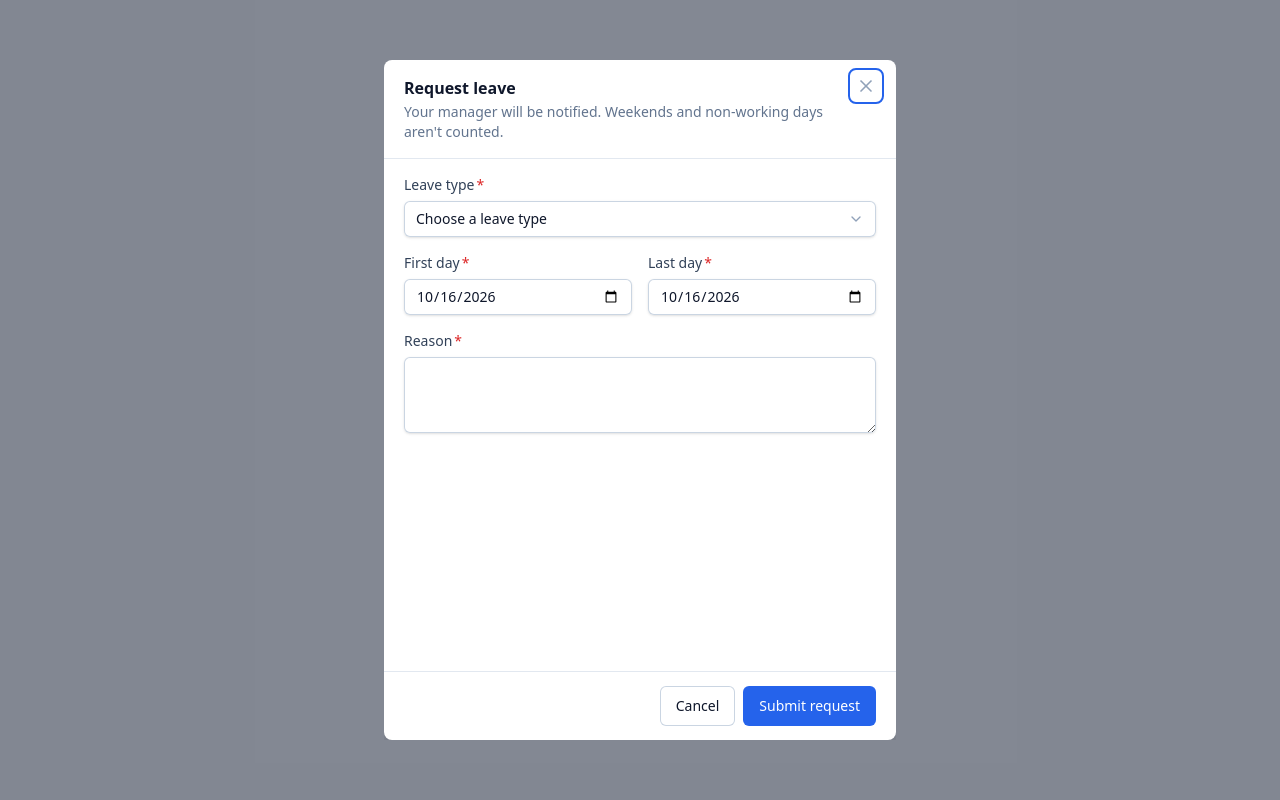
keeps what was typed and shows the server's field error when the API refuses
Step 1. Select "Annual Leave" in the dropdown labelled "Leave type*" → (640, 219), box [404, 201, 876, 237]
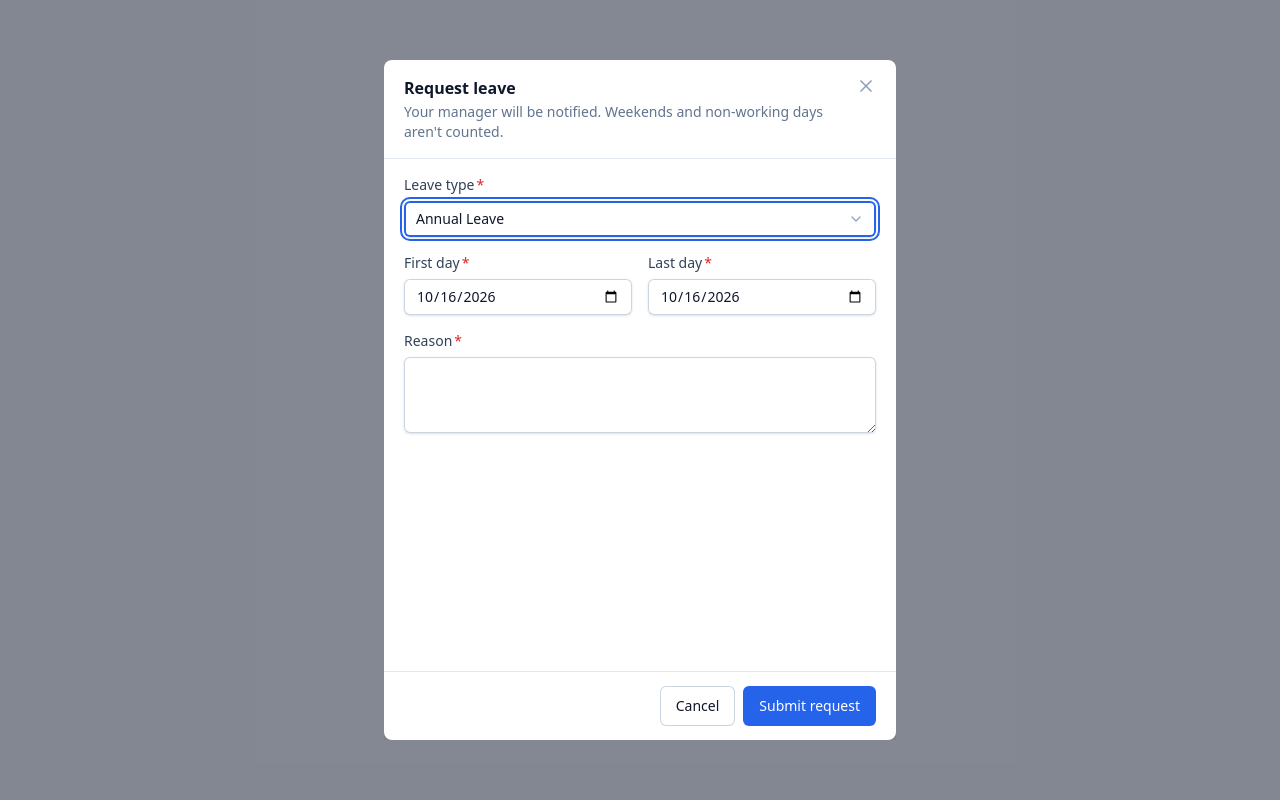
Step 2. Type "Holiday" into the text box labelled "Reason*" → (640, 395), box [404, 357, 876, 433]
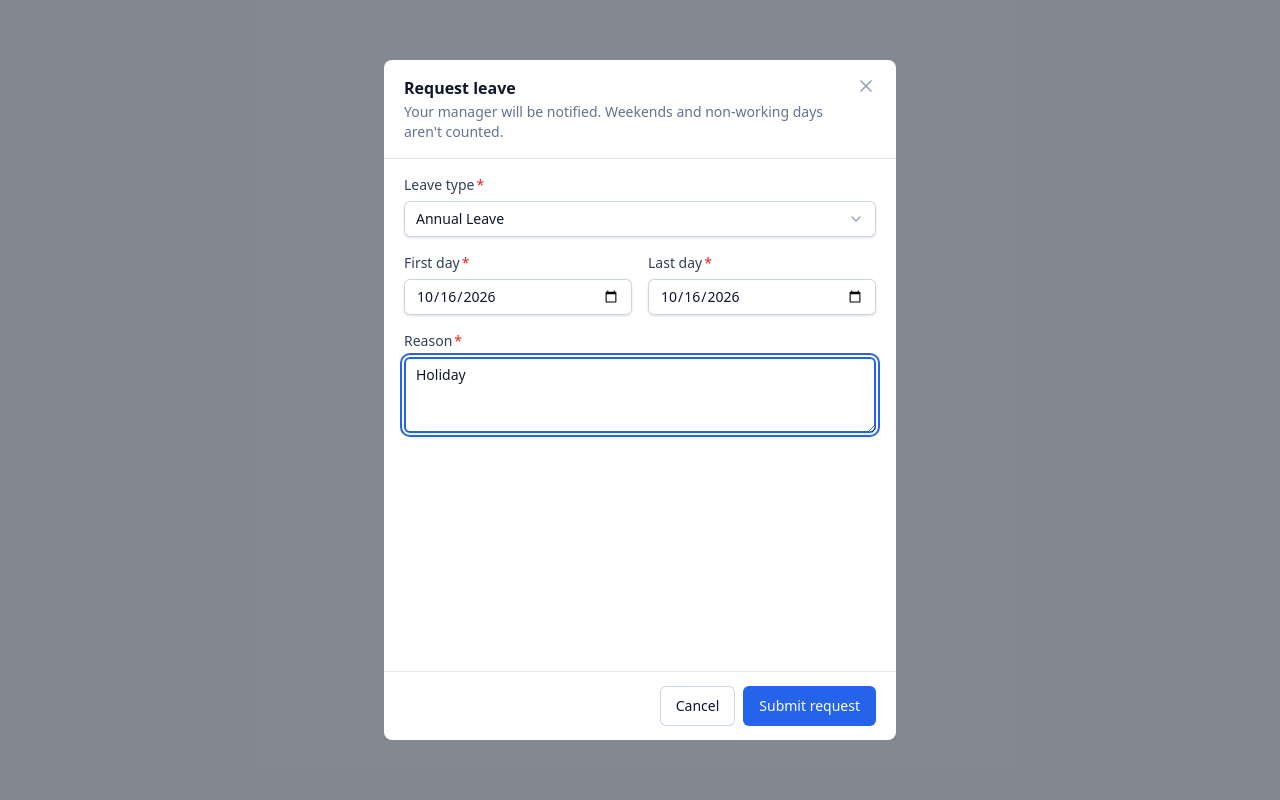
Step 3. Click the button "Submit request" → (810, 706), box [743, 686, 876, 726]
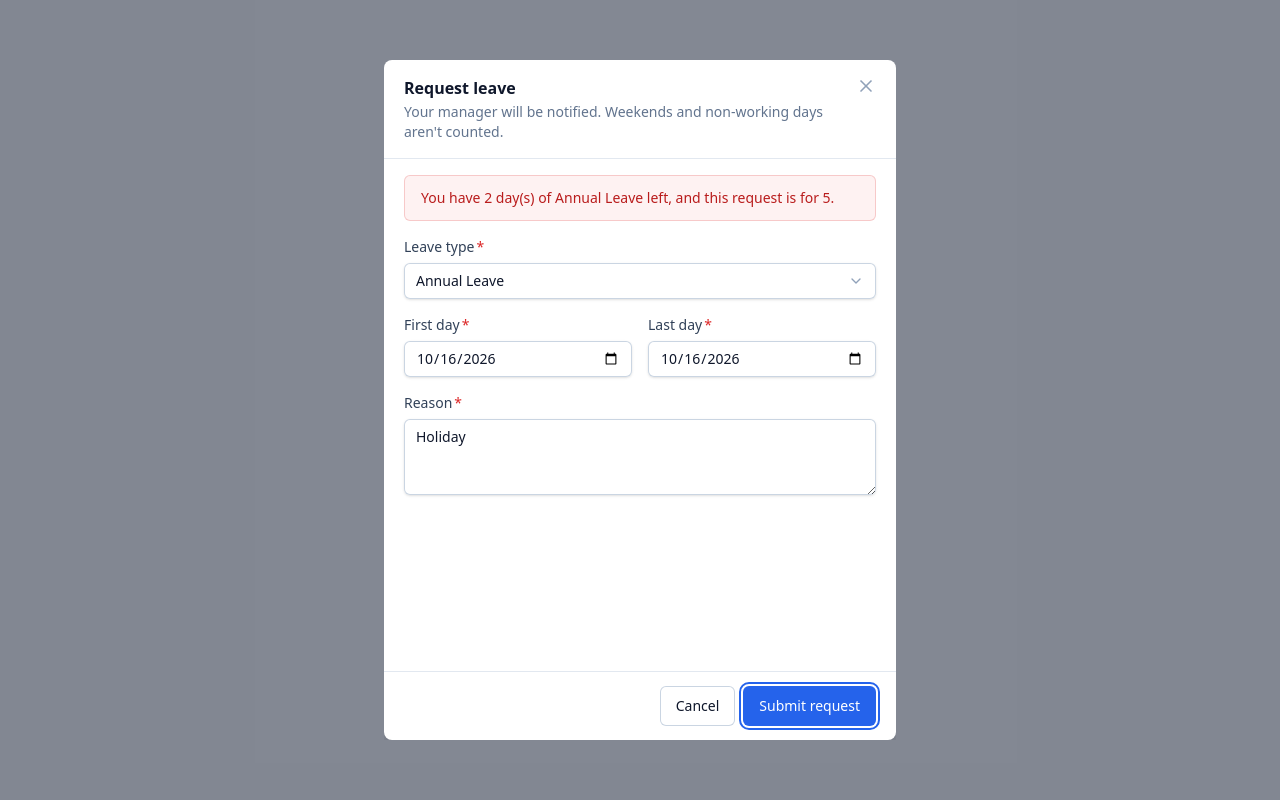
expect the text "day(s) of Annual Leave left" is shown: met, box [421, 188, 834, 207]
